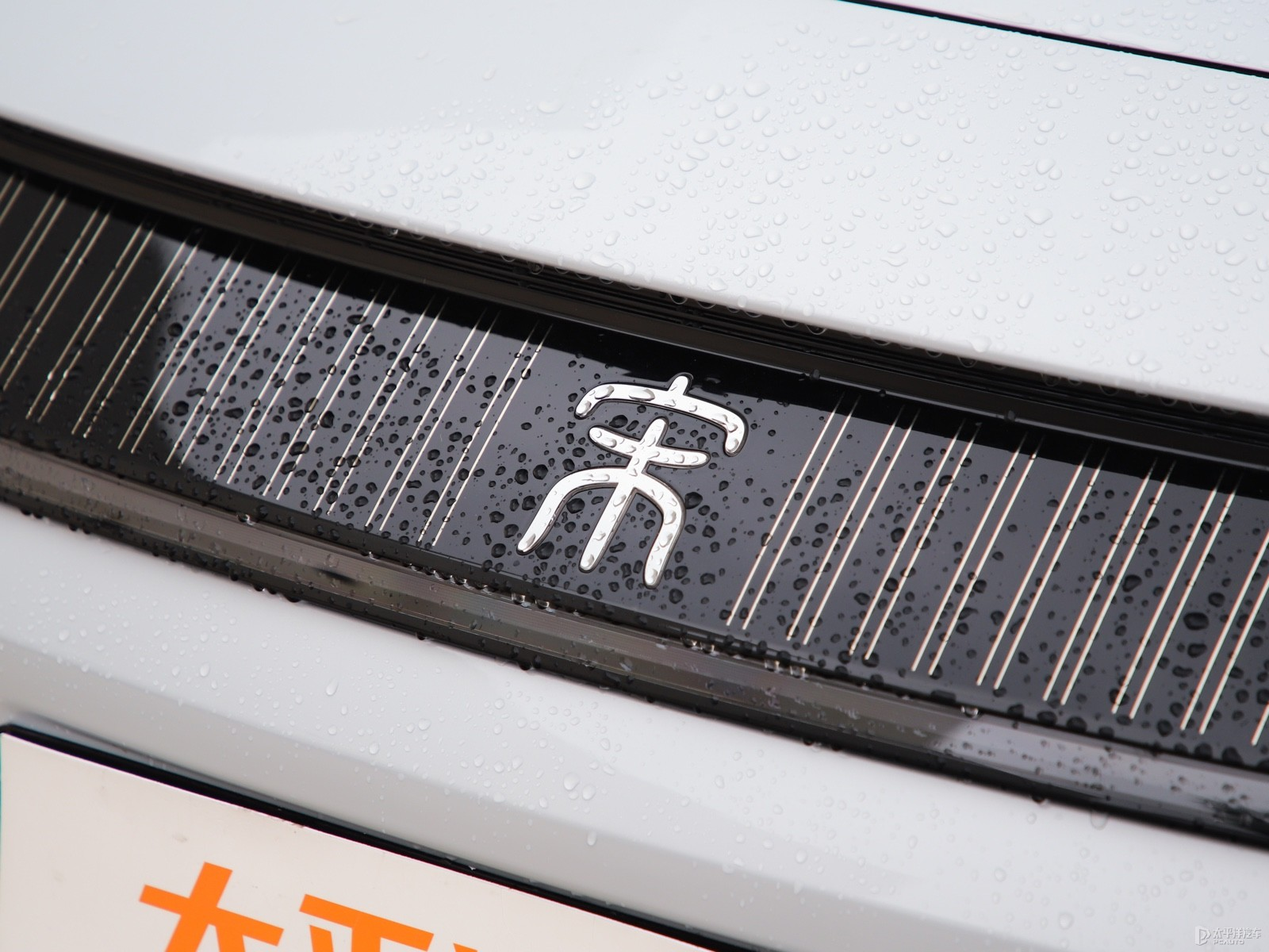BYD Song: (518, 376, 744, 585)
